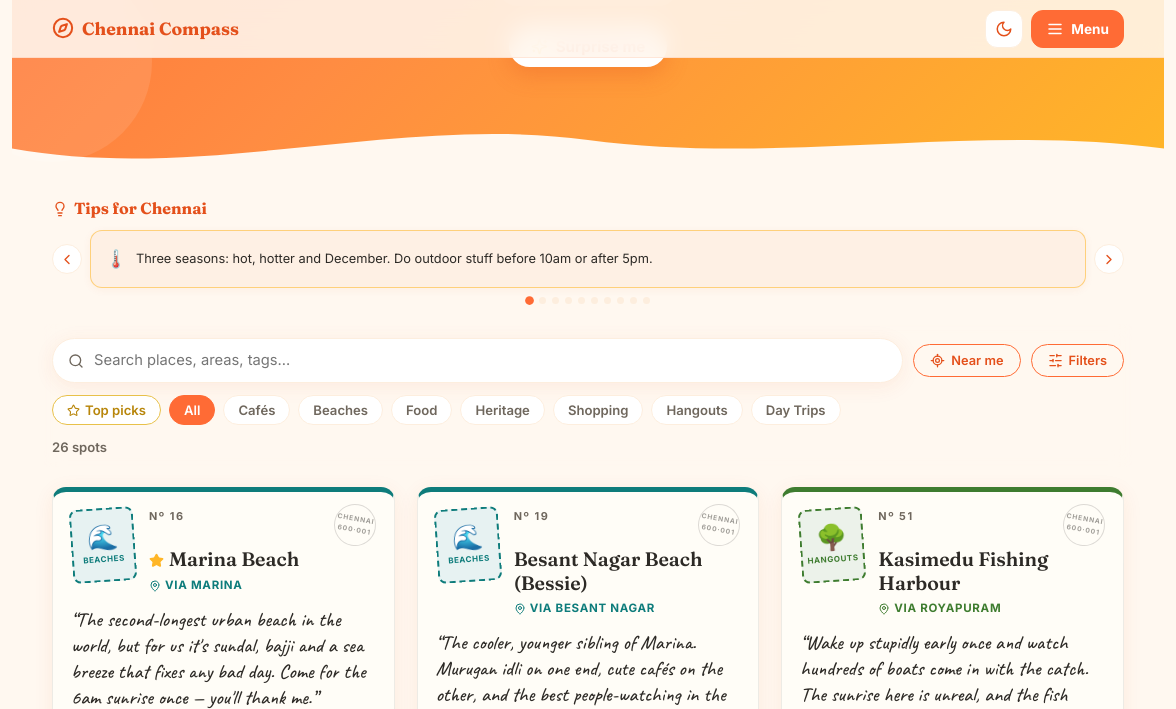
Test: near me › sorts by distance and shows distances on cards when granted
The width and height of the screenshot is (1176, 709).
(page scrolled)
Step 1. Click the button "Near me" → (967, 361), box x1=913 y1=344 x2=1021 y2=377
(page scrolled)
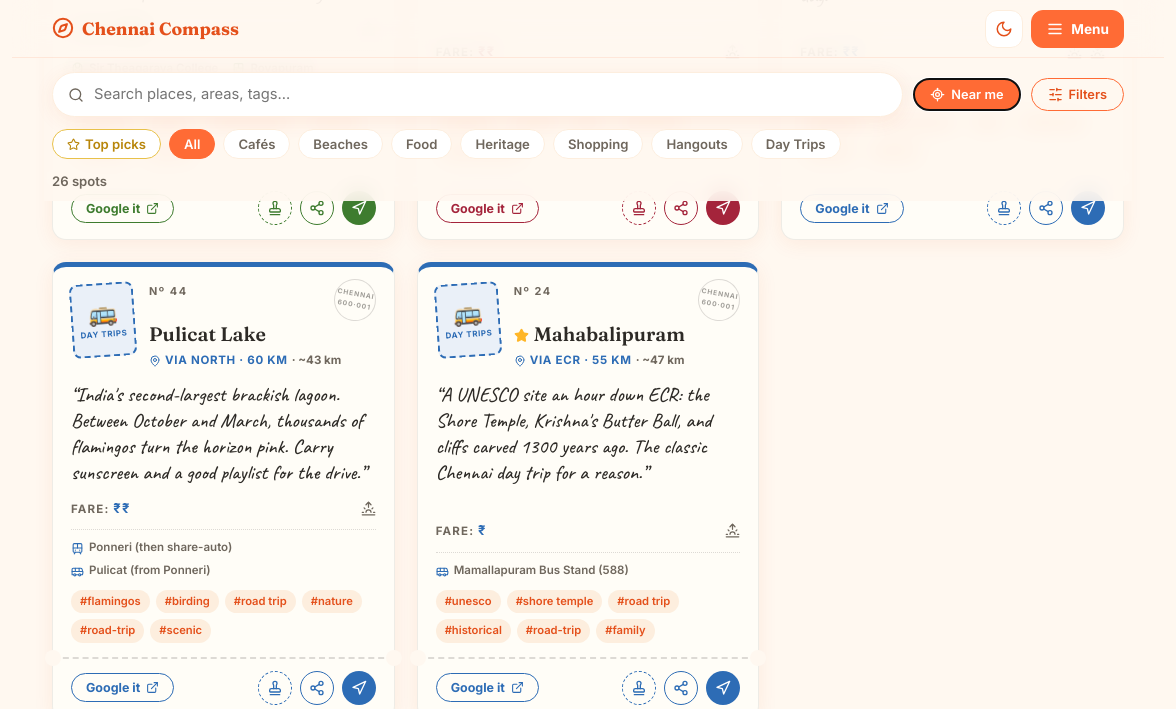
Expected: the text "· ~47 km" is shown, x1=636 y1=352 x2=684 y2=370
